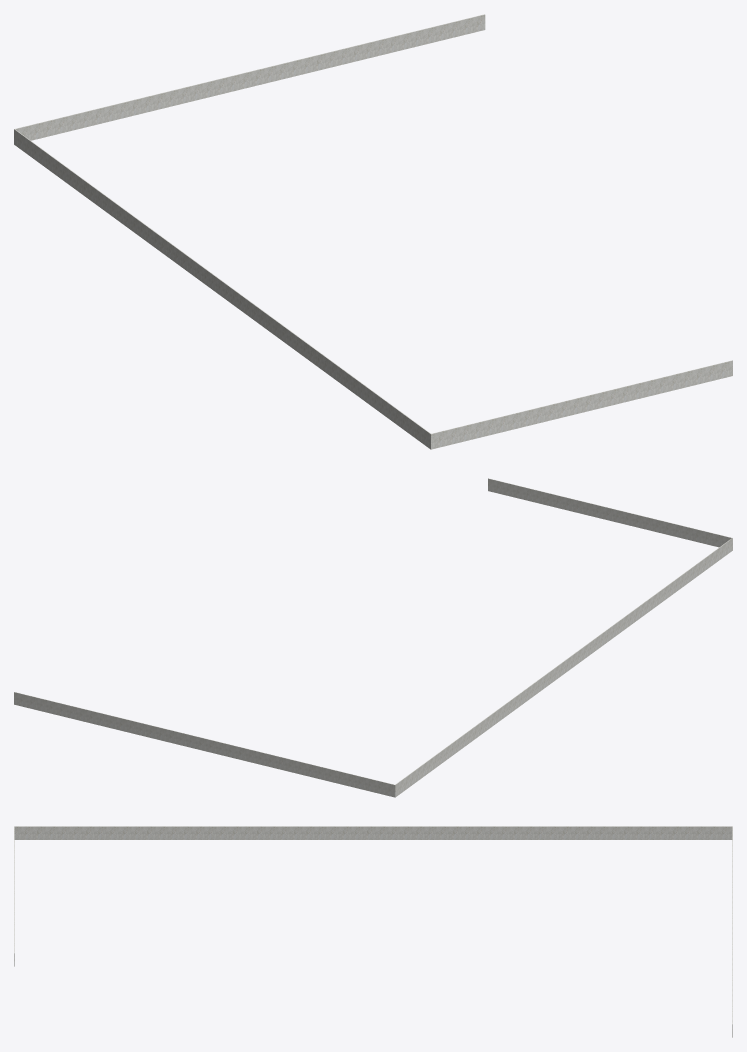
Rendered from BP_MarbleObsessionArabescato.glb.
3 renders of one model, top to bottom at view 1: azimuth 30°, elevation 25°; view 2: azimuth 150°, elevation 25°; view 3: azimuth 270°, elevation 25°, orthographic. The views are drawn at different scales.
Visible parts, largest first — view 1: BP_Marble Obsession Arabescato; view 2: BP_Marble Obsession Arabescato; view 3: BP_Marble Obsession Arabescato.
Boxes of the visible parts, left/top/right/bottom form: BP_Marble Obsession Arabescato: left=14, top=14, right=732, bottom=449; BP_Marble Obsession Arabescato: left=14, top=478, right=732, bottom=797; BP_Marble Obsession Arabescato: left=14, top=826, right=732, bottom=1037.
Size of the model in its own units: 6.39 by 0.2 by 9.8.
1 material, 1 textured.
